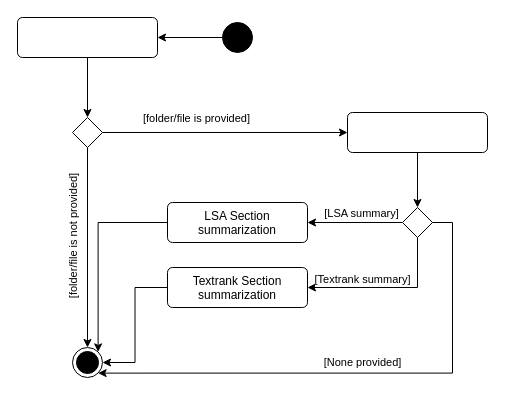
The diagram is 505 pixels wide and 399 high, and some of its shapes have lost their labels. The shapes that lost their labels are listed below. From the top down, each one's centre as x and y in pixels, then its label:
(x=87, y=37): Receive input from user
(x=417, y=132): PDF Segmentation
